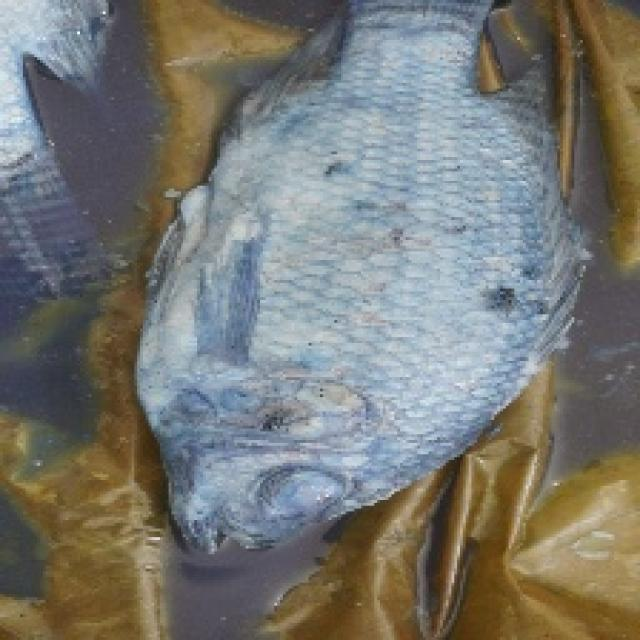Non-Fresh: (154, 5, 589, 583), (251, 454, 353, 537)
